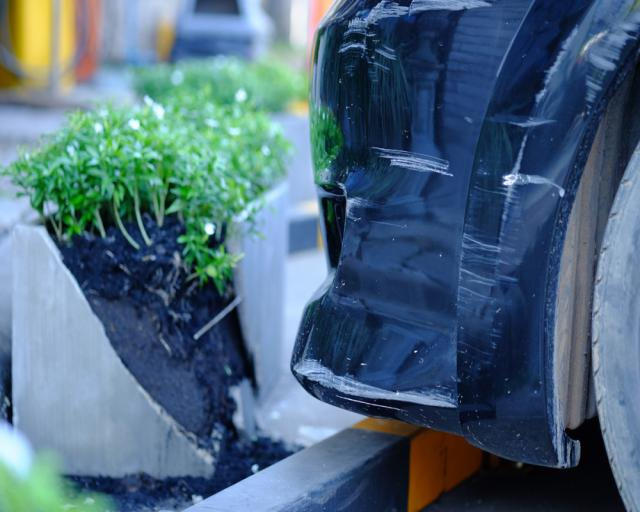scratch: (459, 13, 640, 337), (339, 0, 493, 82), (293, 355, 459, 410), (370, 144, 456, 179), (337, 184, 383, 222)
